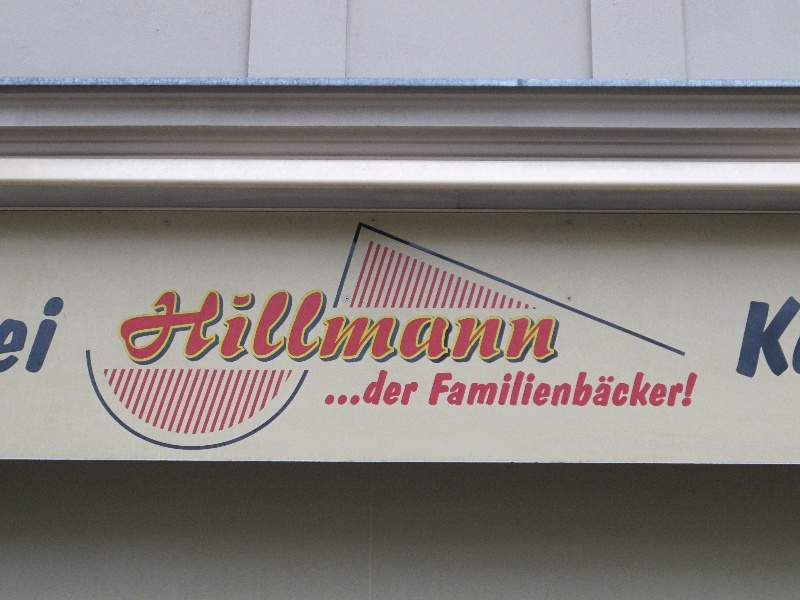text: (753, 296, 768, 379), (769, 296, 784, 379), (785, 296, 800, 379), (1, 295, 16, 374), (17, 295, 32, 374), (33, 295, 48, 374), (49, 295, 64, 374), (129, 287, 144, 362), (145, 287, 160, 362), (161, 287, 176, 362), (177, 287, 192, 362), (193, 287, 208, 362), (209, 287, 224, 362), (225, 287, 240, 362), (241, 287, 256, 362), (257, 287, 272, 362), (273, 287, 288, 362), (289, 287, 304, 362), (305, 287, 320, 362), (321, 287, 336, 362), (337, 287, 352, 362), (353, 287, 368, 362), (369, 287, 384, 362), (385, 287, 400, 362), (401, 287, 416, 362), (417, 287, 432, 362), (433, 287, 448, 362), (449, 287, 464, 362), (465, 287, 480, 362), (481, 287, 496, 362), (497, 287, 512, 362), (513, 287, 528, 362), (529, 287, 544, 362), (545, 287, 557, 362), (337, 346, 352, 406), (353, 346, 368, 406), (369, 346, 384, 406), (385, 346, 400, 406), (401, 346, 416, 406), (417, 346, 432, 406), (449, 371, 464, 408), (465, 371, 480, 408), (481, 371, 496, 408), (497, 371, 512, 408), (513, 371, 528, 408), (529, 371, 544, 408), (545, 371, 560, 408), (561, 371, 576, 408), (577, 371, 592, 408), (593, 371, 608, 408), (609, 371, 624, 408), (625, 371, 640, 408), (641, 371, 656, 408), (657, 371, 672, 408), (673, 371, 688, 408), (327, 346, 336, 406), (436, 371, 448, 408), (689, 371, 701, 408), (124, 287, 128, 362), (433, 346, 436, 406), (65, 295, 67, 374), (751, 296, 752, 379)
